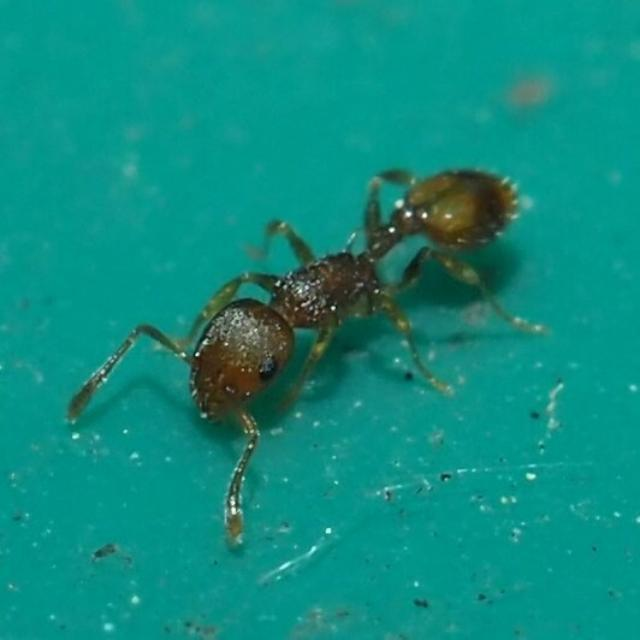Temnothorax: (98, 121, 560, 471)
